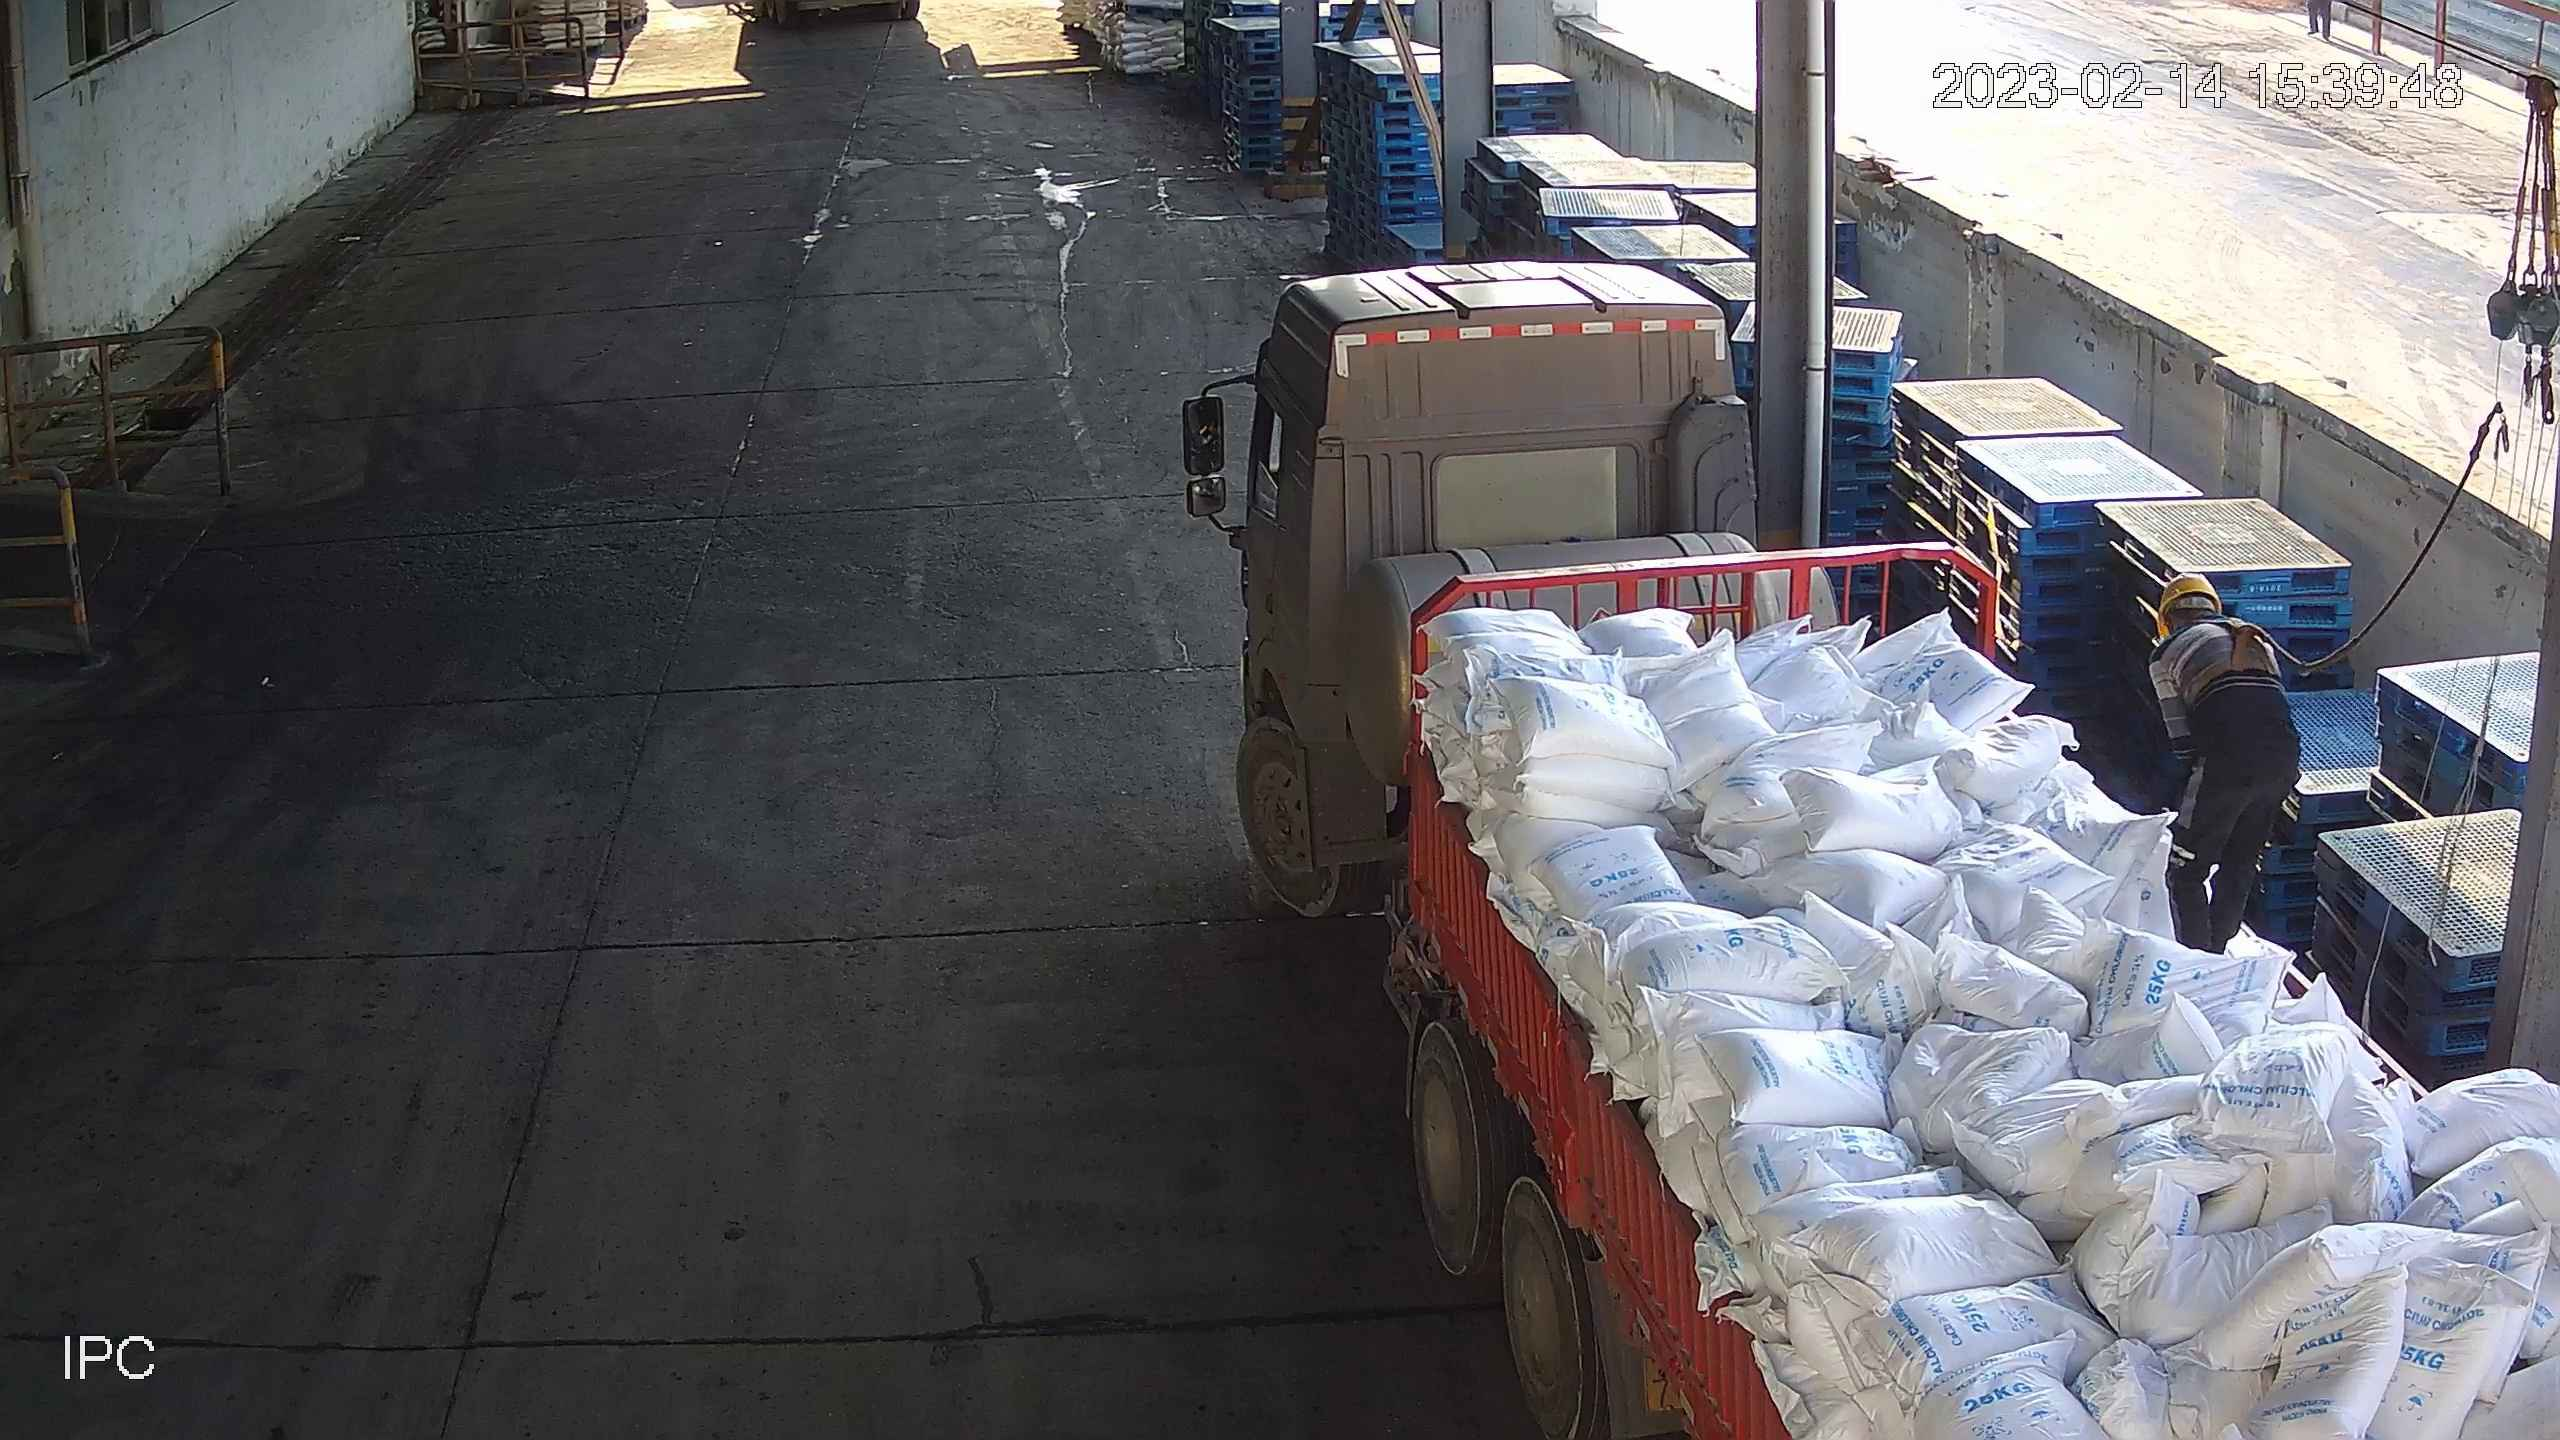belt: (2197, 613, 2290, 685)
head: (2158, 574, 2272, 655)
helmet: (2144, 574, 2214, 639)
people: (2139, 581, 2300, 951)
truck: (1176, 260, 2560, 1440)
